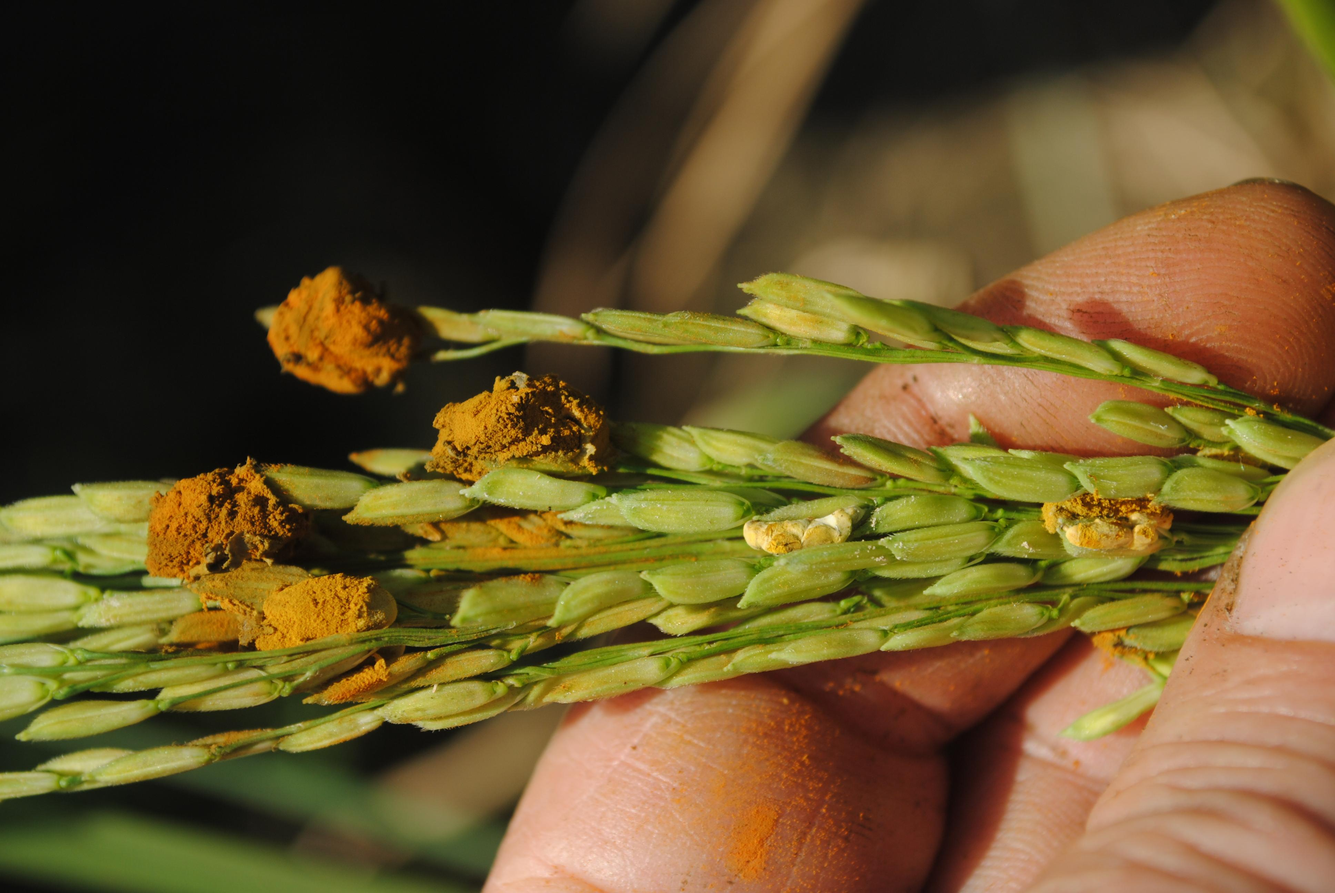False Smut: (172, 565, 407, 692), (410, 351, 607, 500), (241, 258, 428, 407), (134, 469, 310, 582), (1038, 489, 1176, 558)
